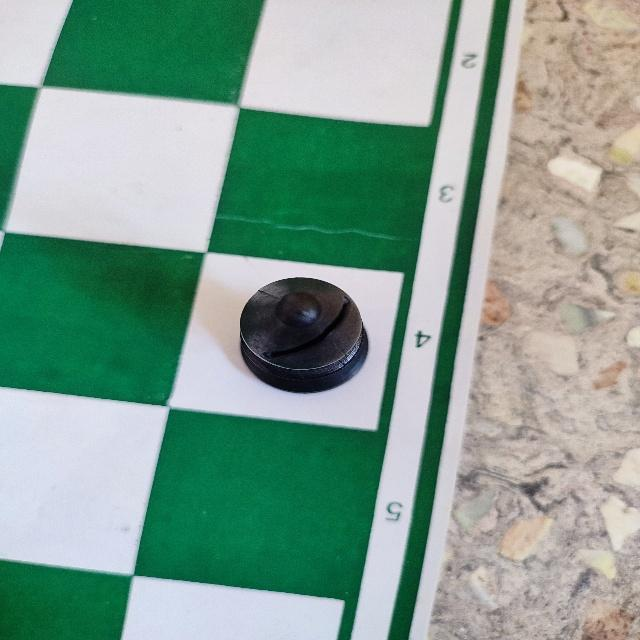Bishop: (234, 272, 372, 396)
